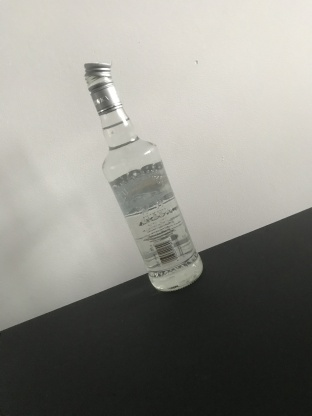nakretka: (82, 59, 123, 117)
